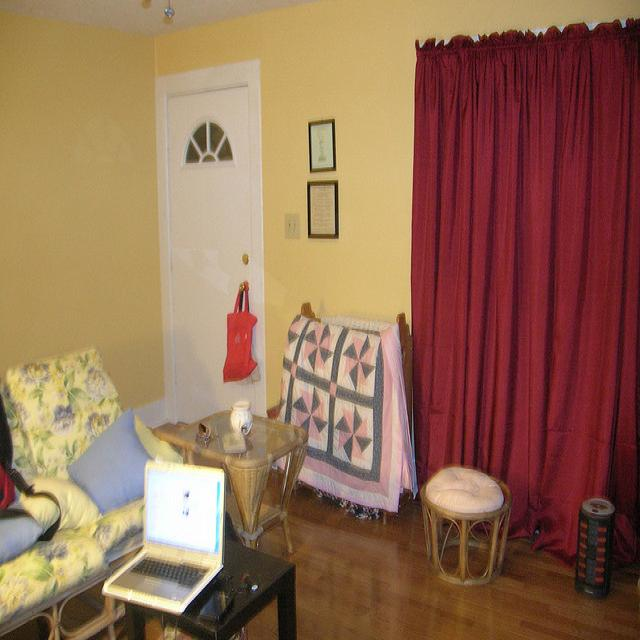chair: (422, 465, 511, 585)
dining table: (153, 402, 311, 559)
